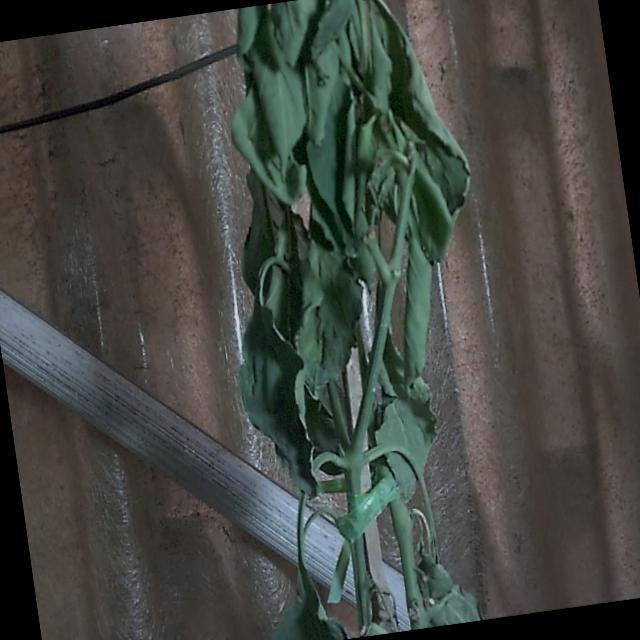Leaf: (239, 304, 316, 495), (248, 15, 306, 173), (232, 90, 306, 205), (375, 398, 435, 502), (275, 0, 318, 65), (311, 0, 355, 59)
